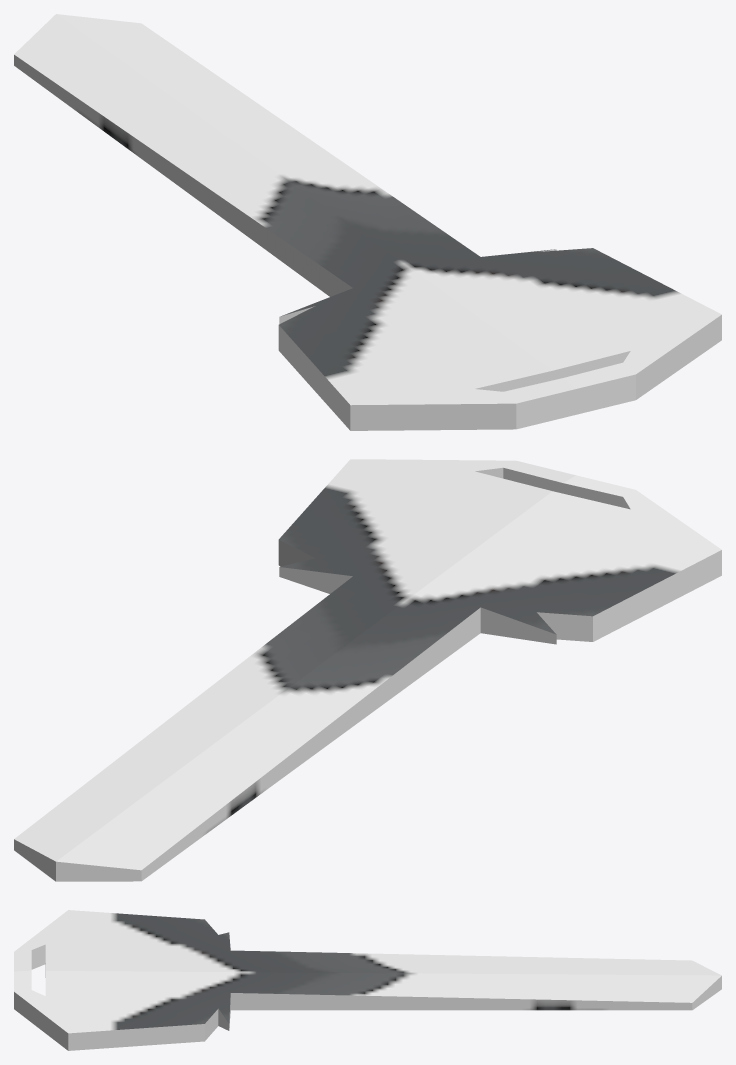
The model's file is Key.fbx.
3 views of the same model, one above another, from view 1: azimuth 30°, elevation 25°; view 2: azimuth 150°, elevation 25°; view 3: azimuth 270°, elevation 25° (orthographic). The views are drawn at different scales.
Visible parts, largest first — view 1: Cube; view 2: Cube; view 3: Cube.
Part boxes in pixels (x1=…): Cube: x1=14, y1=14, x2=721, y2=430; Cube: x1=14, y1=459, x2=721, y2=881; Cube: x1=14, y1=910, x2=721, y2=1050.
Size of the model in its own units: 3.03 by 0.2352 by 7.34.
